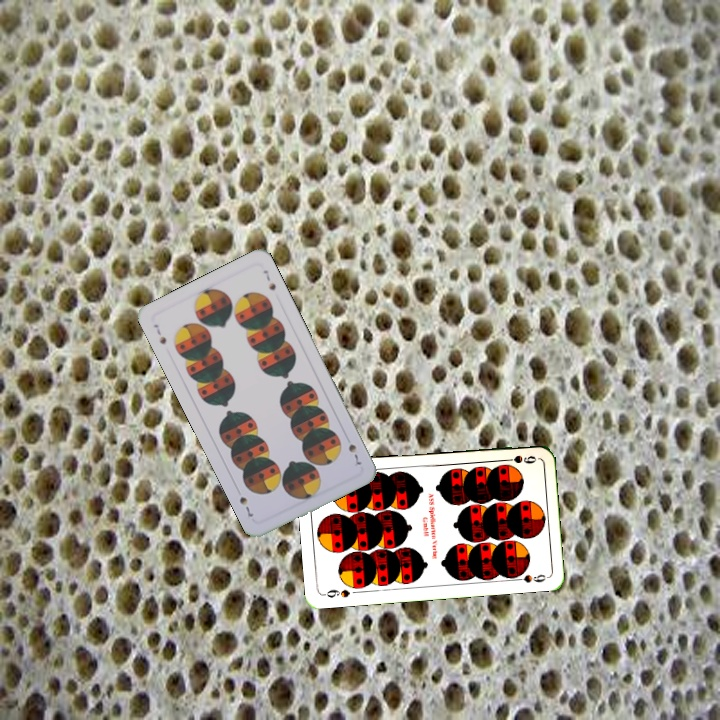S7: (344, 440, 364, 468), (149, 320, 169, 347)
S9: (498, 451, 539, 466), (319, 585, 352, 600)
